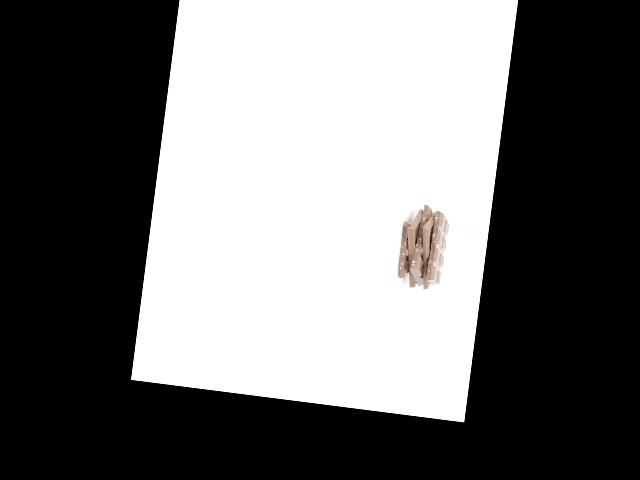chocolate: (391, 207, 431, 287)
